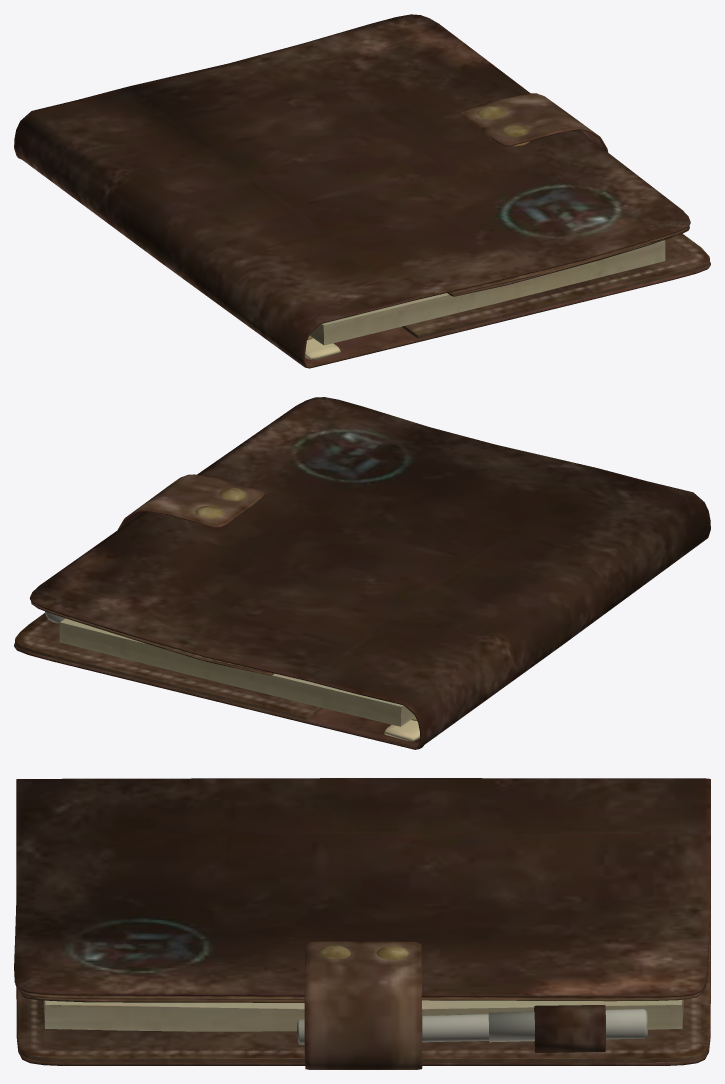
The model's file is notebook.gltf.
The picture shows the model from 3 angles, top to bottom: view 1: azimuth 30°, elevation 25°; view 2: azimuth 150°, elevation 25°; view 3: azimuth 270°, elevation 25°; orthographic projection. The views are drawn at different scales.
Parts seen in each view (by area): view 1: closed; view 2: closed; view 3: closed.
Part boxes in pixels (x1=…): closed: x1=14, y1=14, x2=710, y2=368; closed: x1=14, y1=397, x2=710, y2=749; closed: x1=14, y1=778, x2=710, y2=1069.
Bounding box in the file's own units: 0.1706 × 0.0252 × 0.1999.
Materials: 1 (1 with a texture image).
